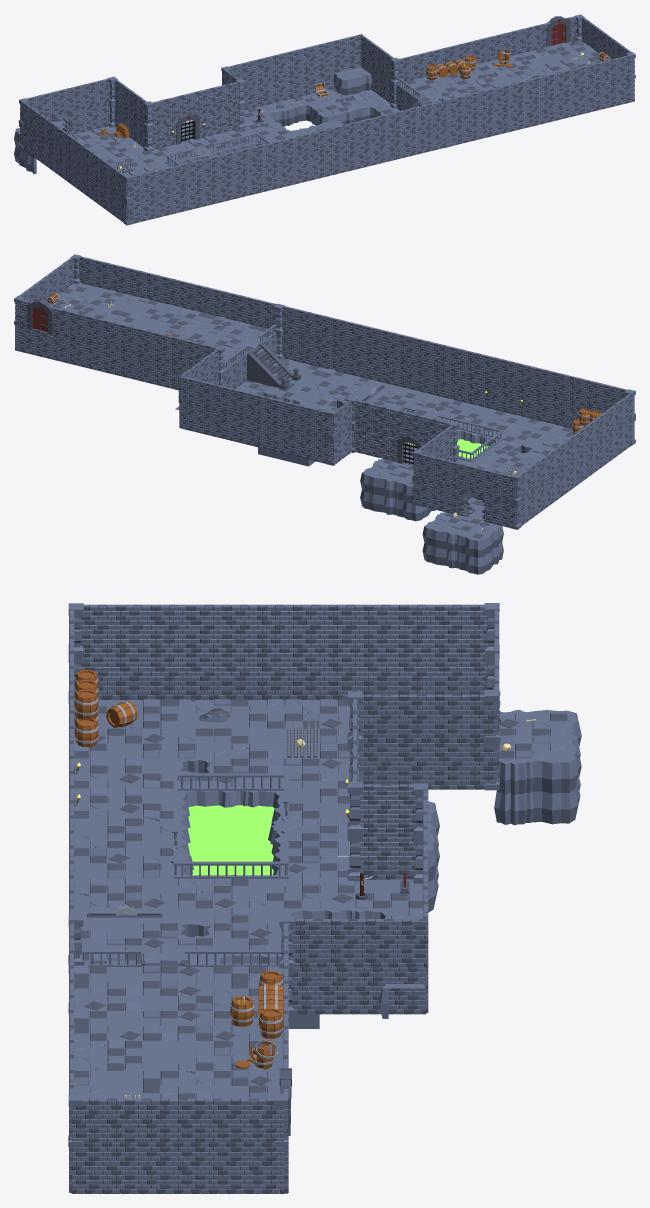
File: low poly dungeon sample.fbx
3 renders of one model, top to bottom at view 1: azimuth 30°, elevation 25°; view 2: azimuth 150°, elevation 25°; view 3: azimuth 270°, elevation 25°, orthographic. The views are drawn at different scales.
Parts seen in each view (by area): view 1: brick wall.008, brick wall.024, brick wall.007, brick wall.009, brick wall.010, brick wall.006, brick wall.015, brick wall.013, brick wall.027, brick wall with bars.002, brick wall with door.003, brick wall.022 (+8 smaller); view 2: brick wall.008, brick wall.024, brick wall.007, brick wall.011, brick wall.009, brick wall.006, brick wall.010, brick wall with door.003, brick wall.013, ruined wall.001, brick wall.026, brick wall.014 (+11 smaller); view 3: brick wall.007, brick wall.013, brick wall.015, brick wall.022, brick wall.027, floor.096, brick wall.026, brick wall.008, floor.267, floor.297, pillar.004, Railing.012 (+8 smaller).
Boxes of the visible parts, x1=… form: brick wall.008: x1=127, y1=55, x2=634, y2=223; brick wall.024: x1=229, y1=34, x2=360, y2=110; brick wall.007: x1=20, y1=102, x2=127, y2=221; brick wall.009: x1=398, y1=26, x2=535, y2=82; brick wall.010: x1=151, y1=82, x2=239, y2=126; brick wall.006: x1=26, y1=78, x2=110, y2=117; brick wall.015: x1=114, y1=80, x2=146, y2=147; brick wall.013: x1=581, y1=17, x2=634, y2=100; brick wall.027: x1=360, y1=59, x2=424, y2=110; brick wall with bars.002: x1=164, y1=112, x2=210, y2=146; brick wall with door.003: x1=534, y1=16, x2=577, y2=49; brick wall.022: x1=360, y1=34, x2=393, y2=79; brick wall.008: x1=78, y1=256, x2=627, y2=428; brick wall.024: x1=180, y1=376, x2=332, y2=463; brick wall.007: x1=516, y1=394, x2=634, y2=525; brick wall.011: x1=15, y1=325, x2=190, y2=390; brick wall.009: x1=65, y1=310, x2=215, y2=367; brick wall.006: x1=414, y1=453, x2=516, y2=501; brick wall.010: x1=353, y1=400, x2=449, y2=443; brick wall with door.003: x1=15, y1=299, x2=66, y2=337; brick wall.013: x1=19, y1=257, x2=74, y2=301; ruined wall.001: x1=448, y1=487, x2=498, y2=524; brick wall.026: x1=333, y1=400, x2=352, y2=461; brick wall.014: x1=414, y1=480, x2=447, y2=512; brick wall.007: x1=80, y1=604, x2=487, y2=699; brick wall.013: x1=71, y1=1098, x2=284, y2=1193; brick wall.015: x1=359, y1=694, x2=496, y2=789; brick wall.022: x1=289, y1=919, x2=428, y2=967; brick wall.027: x1=141, y1=965, x2=425, y2=1014; floor.096: x1=188, y1=805, x2=274, y2=875; brick wall.026: x1=359, y1=784, x2=416, y2=879; brick wall.008: x1=69, y1=610, x2=74, y2=1192; floor.267: x1=532, y1=744, x2=580, y2=793; floor.297: x1=532, y1=781, x2=580, y2=824; pillar.004: x1=347, y1=781, x2=362, y2=881; Railing.012: x1=178, y1=861, x2=284, y2=878.
Size of the model in its own units: 6995 by 1059 by 3053.
